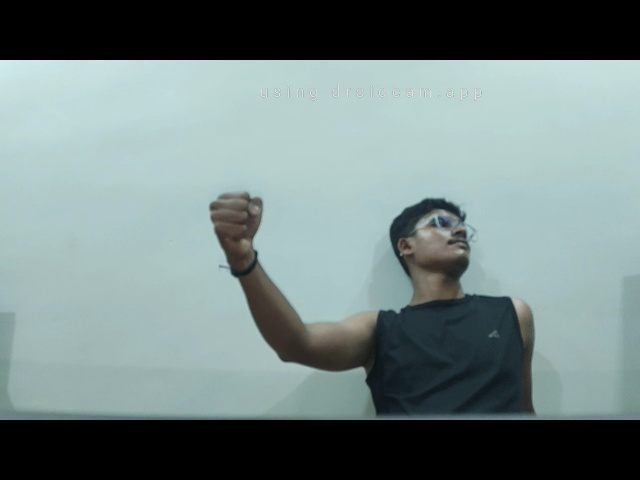yes: (200, 184, 276, 272)
